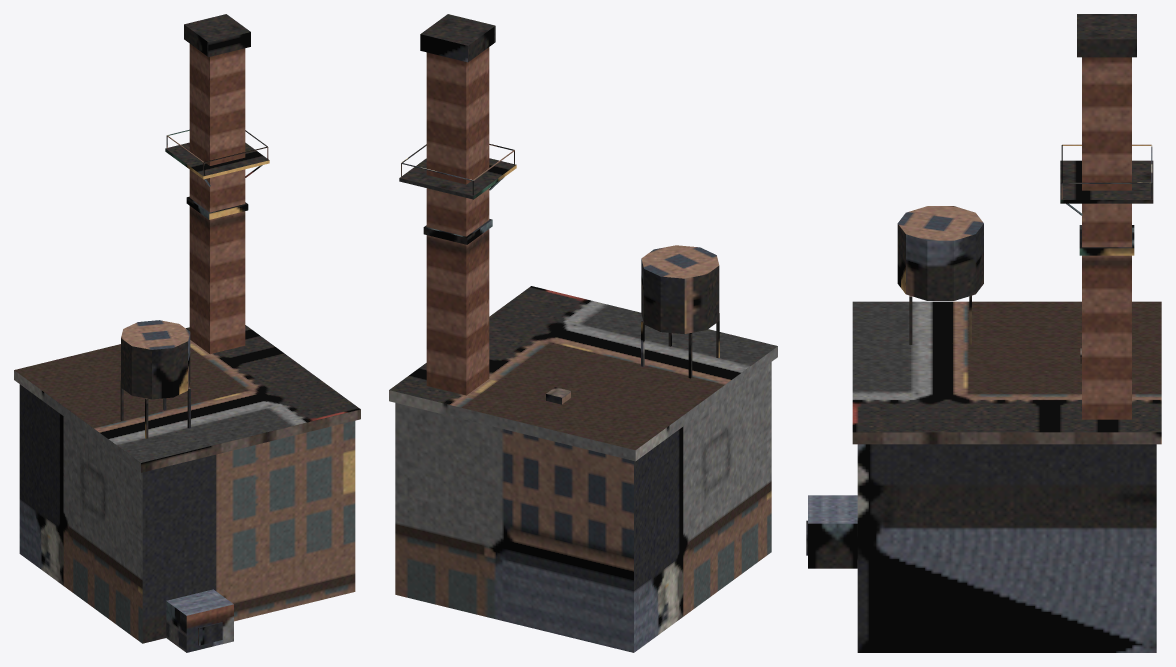
File: SM_Factory_B.fbx
3 renders of one model, left to right at view 1: azimuth 30°, elevation 25°; view 2: azimuth 150°, elevation 25°; view 3: azimuth 270°, elevation 25°, orthographic. The views are drawn at different scales.
Visible parts, largest first — view 1: SM_Factory_B; view 2: SM_Factory_B; view 3: SM_Factory_B.
Part boxes in pixels (x1=…): SM_Factory_B: x1=14, y1=14, x2=360, y2=652; SM_Factory_B: x1=389, y1=14, x2=777, y2=652; SM_Factory_B: x1=806, y1=14, x2=1161, y2=652.
Size of what is drawn, in the model's own units: 1860 by 4020 by 2140.
2 materials, 2 textured.
